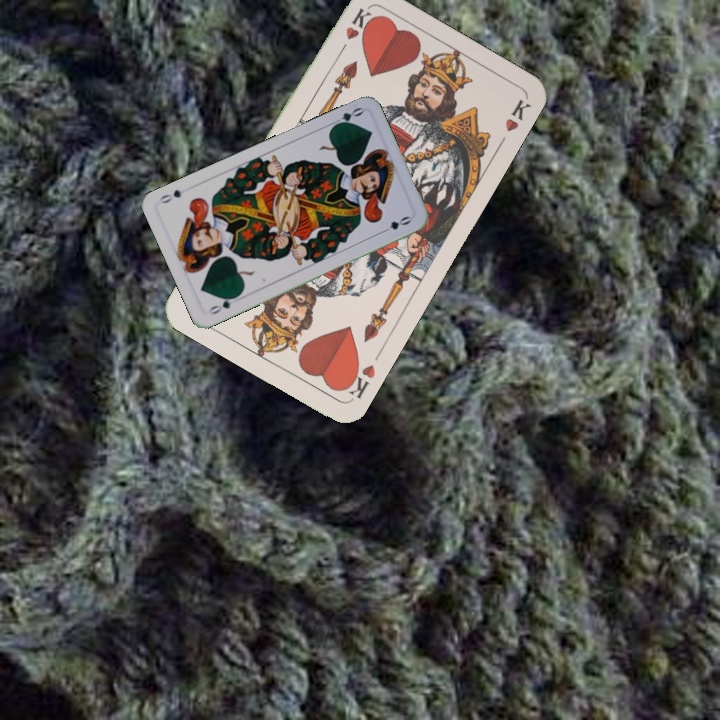GO: (326, 103, 366, 130), (204, 291, 241, 317)
HK: (334, 3, 373, 59), (338, 358, 378, 402)
